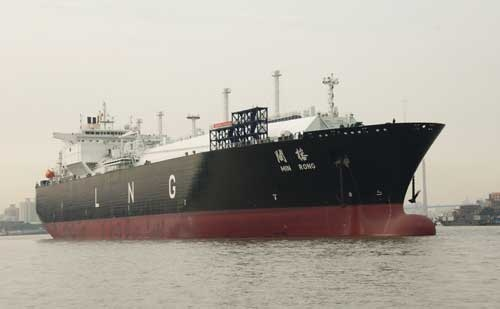Cargoship: (31, 70, 445, 245)
